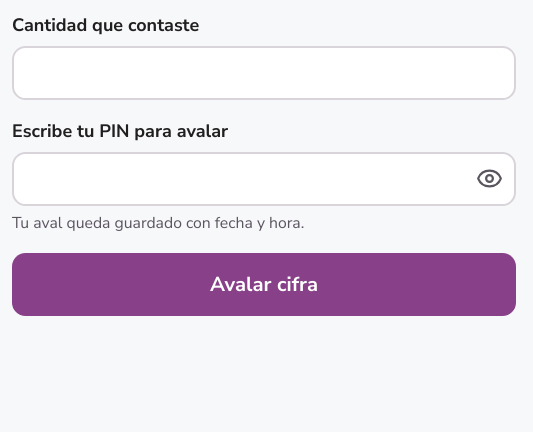
Test: AvalForm › avisa si la cifra coincide o si hay diferencia antes de avalar
The width and height of the screenshot is (533, 432).
In the field labelled "Cantidad que contaste": (264, 73) [12,46,516,100], type "1250"
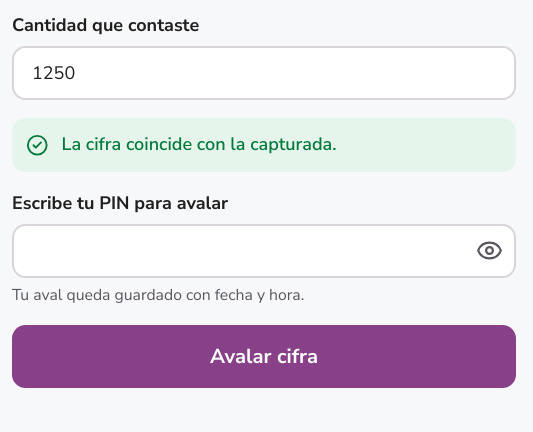
Result: the text "La cifra coincide con la capturada." is shown at [62,131,336,158]
Replace the text in the field labelled "Cantidad que contaste" with "1200": (264, 73) [12,46,516,100]
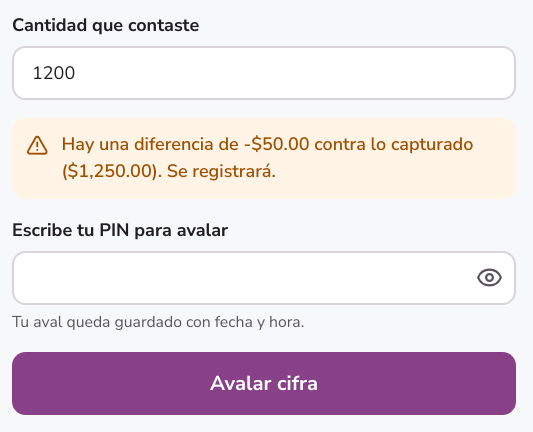
Result: the text "Hay una diferencia" is shown at [62,132,244,156]
